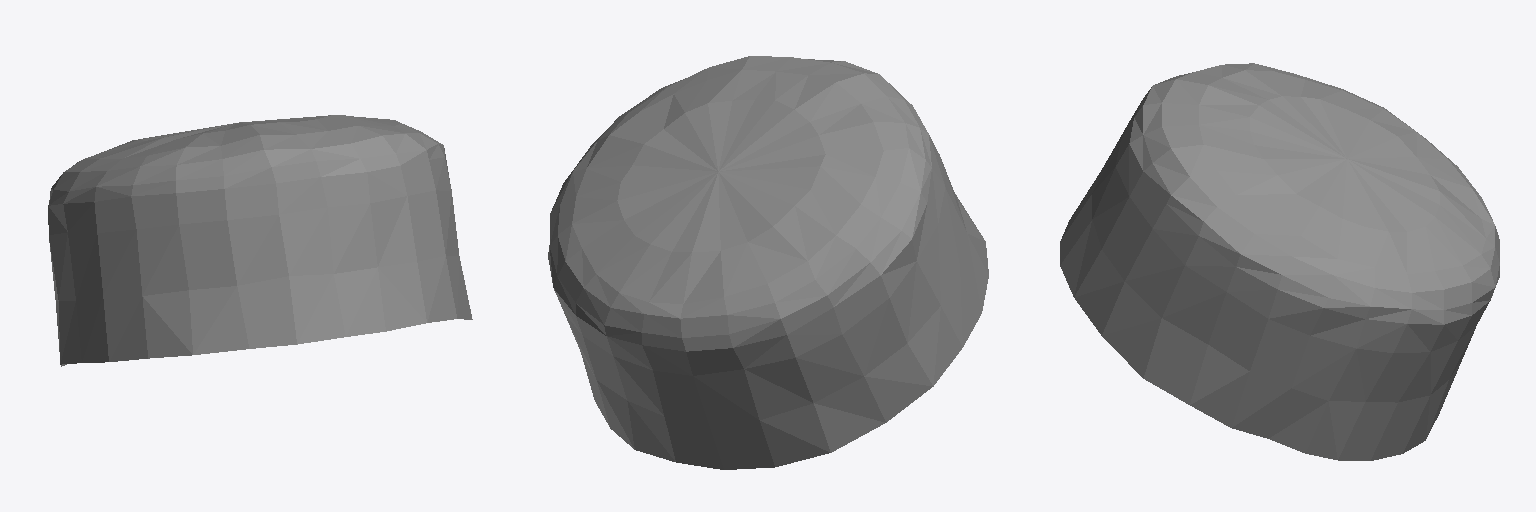
The model's file is left_x_button.obj.
3 views of the same model, side by side, from view 1: azimuth 30°, elevation 25°; view 2: azimuth 150°, elevation 25°; view 3: azimuth 270°, elevation 25° (orthographic).
Visible parts, largest first — view 1: left_x_button; view 2: left_x_button; view 3: left_x_button.
Part boxes in pixels (x1,y1,x2,y2): left_x_button: (48,115,472,366); left_x_button: (548,56,988,469); left_x_button: (1060,63,1499,460).
Bounding box in the file's own units: 0.0092 × 0.0074 × 0.0095.